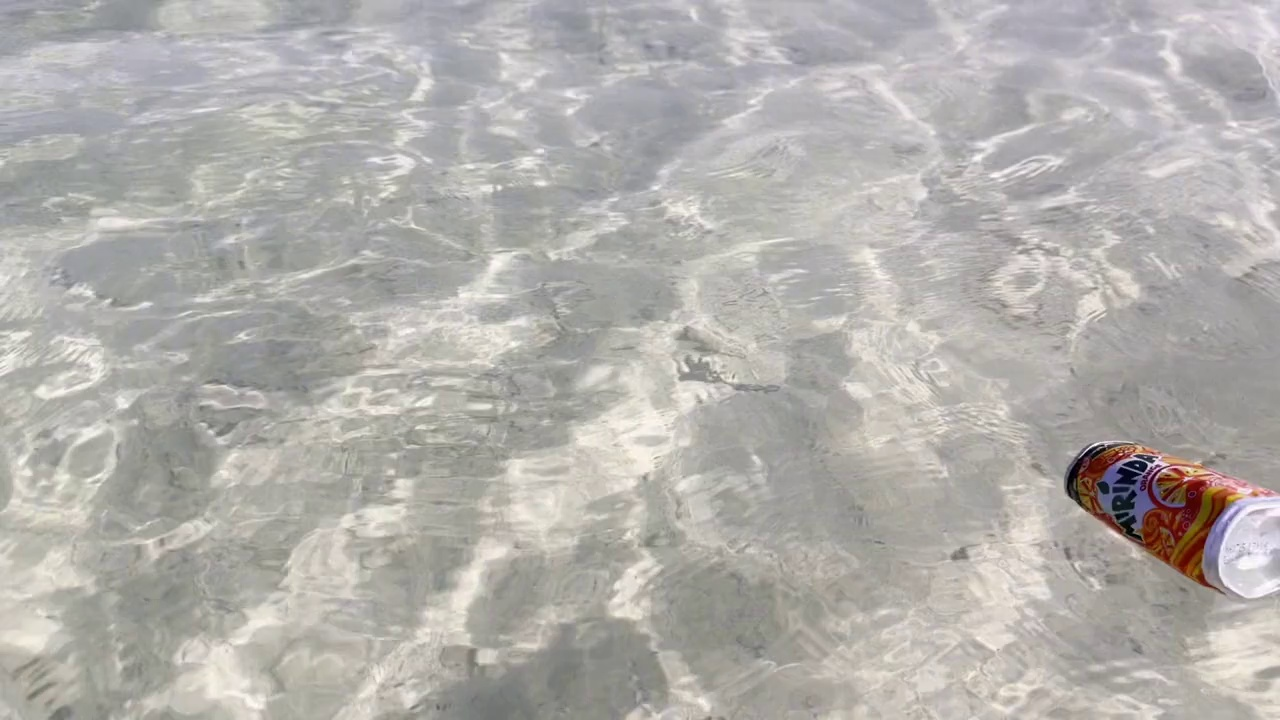debris: (1051, 430, 1280, 617)
